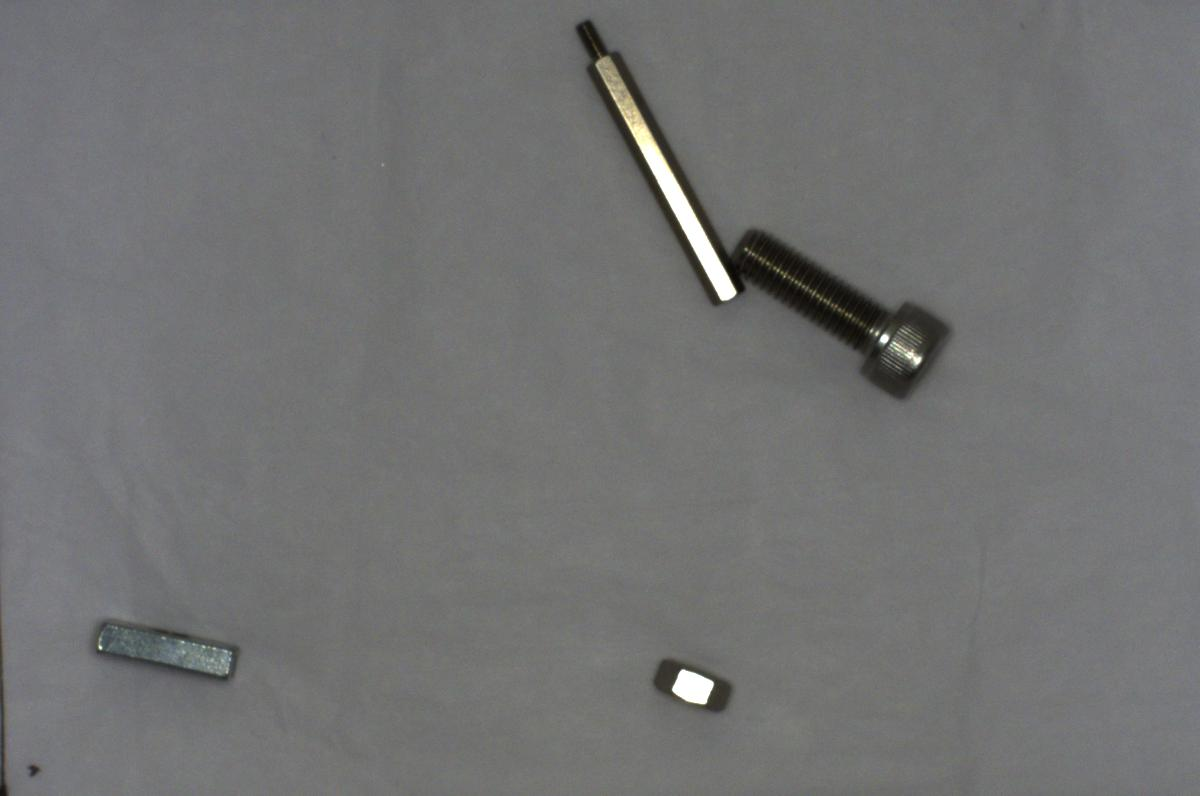Hexagon nut: (647, 646, 744, 721)
Hexagon screw: (730, 213, 957, 402)
Hexagonal steel column: (566, 9, 754, 310)
Rectangular nut: (77, 609, 242, 687)
